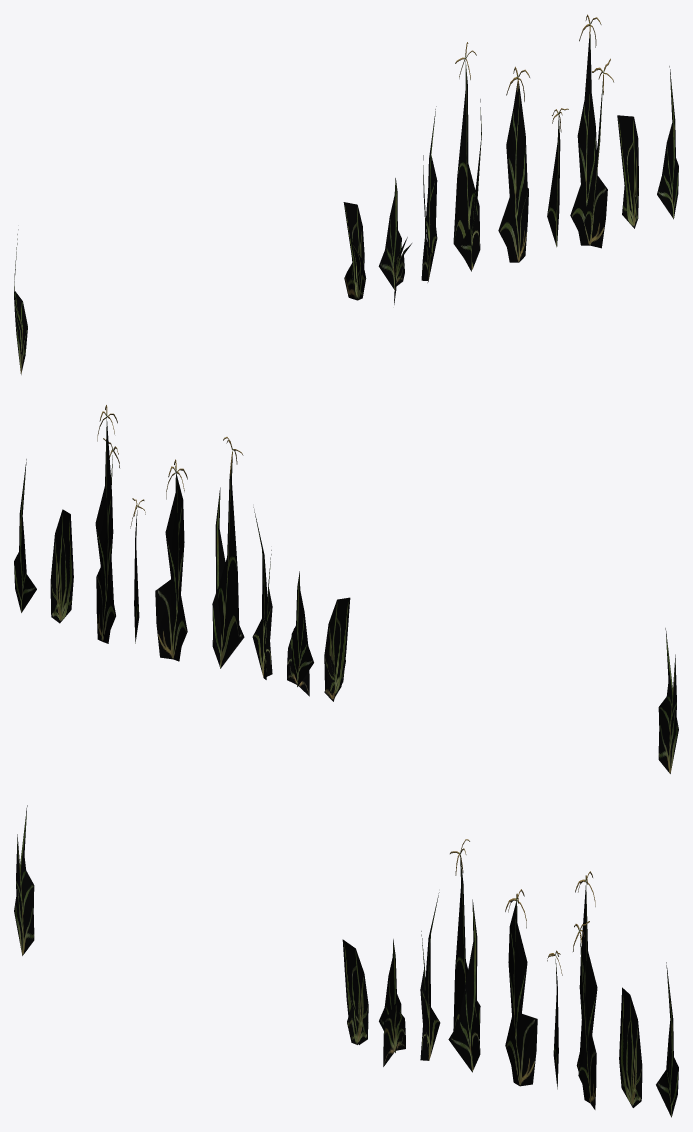
File: ff-grass.glb
The picture shows the model from 3 angles, top to bottom: view 1: azimuth 30°, elevation 25°; view 2: azimuth 150°, elevation 25°; view 3: azimuth 330°, elevation 25°; orthographic projection.
Visible parts, largest first — view 1: FF_GrassTuft; view 2: FF_GrassTuft; view 3: FF_GrassTuft.
Boxes of the visible parts, left/top/right/bottom form: FF_GrassTuft: left=14, top=14, right=678, bottom=374; FF_GrassTuft: left=14, top=405, right=678, bottom=773; FF_GrassTuft: left=14, top=805, right=678, bottom=1117.
Size of the model in its own units: 0.4503 by 0.158 by 0.0337.
Materials: 1 (1 with a texture image).
